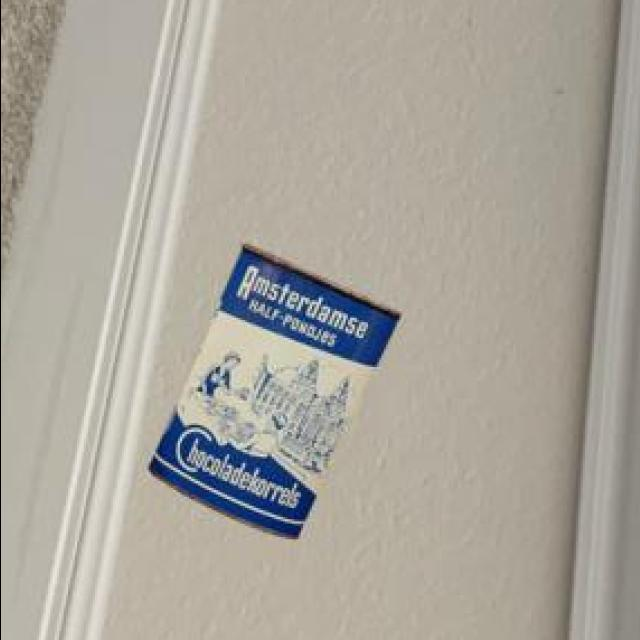logam: (151, 241, 402, 536)
